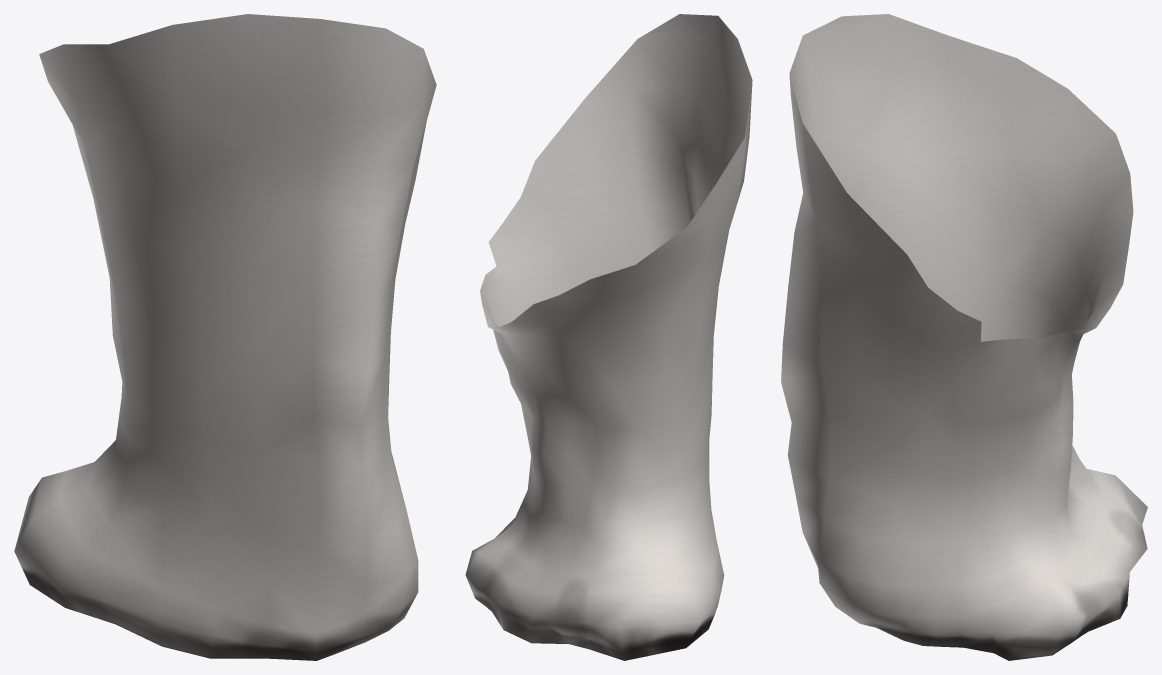
The model's file is rB_leftleg.obj.
The picture shows the model from 3 angles, left to right: view 1: azimuth 30°, elevation 25°; view 2: azimuth 150°, elevation 25°; view 3: azimuth 270°, elevation 25°; orthographic projection. The views are drawn at different scales.
Visible parts, largest first — view 1: Polar_Bear.004; view 2: Polar_Bear.004; view 3: Polar_Bear.004.
Boxes of the visible parts, <box> form: Polar_Bear.004: <box>14,14,436,660</box>; Polar_Bear.004: <box>465,14,752,660</box>; Polar_Bear.004: <box>781,14,1147,660</box>.
Bounding box in the file's own units: 0.4621 × 0.9179 × 0.5429.
Materials: 1 (1 with a texture image).
